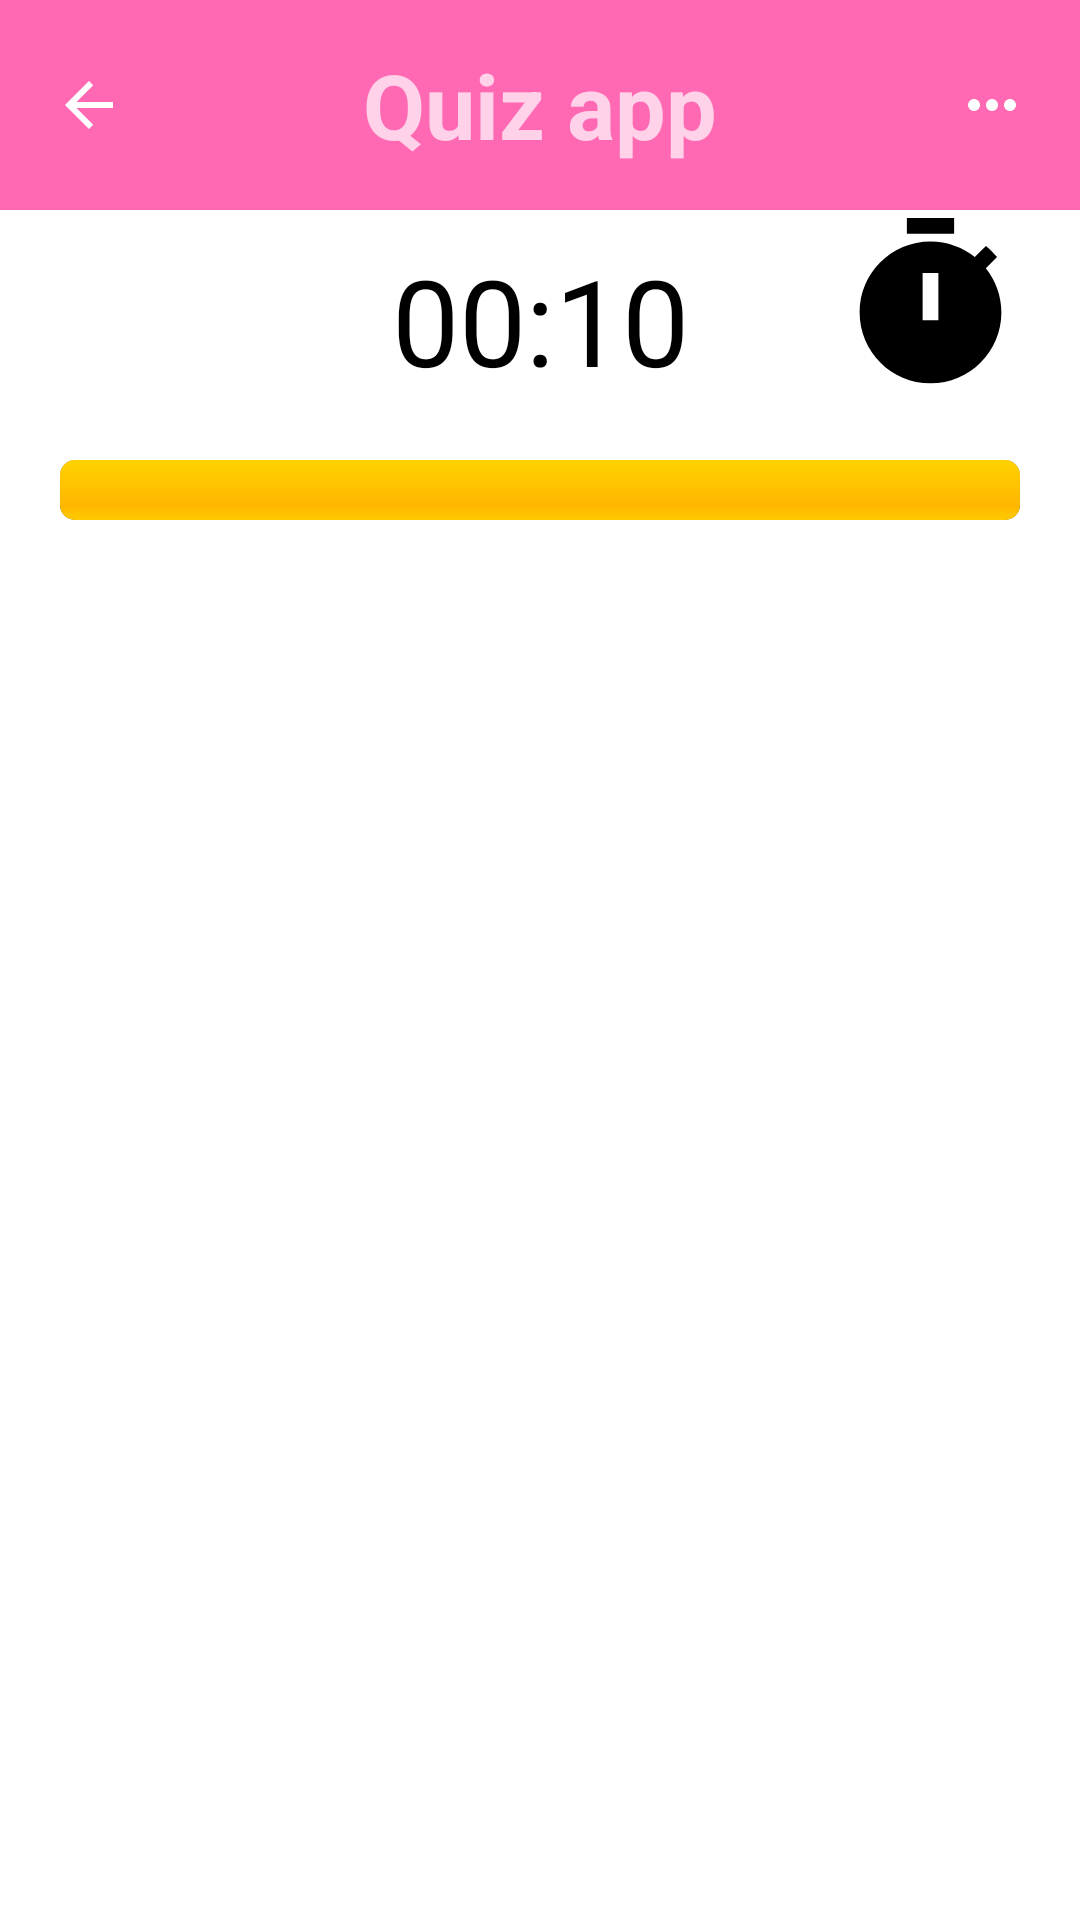

Screen size 1080 × 1920. Icon name, then its center in pixels as (x=x, y=y):
arrow: (x=89, y=105)
more horiz: (x=992, y=105)
timer: (x=930, y=301)
